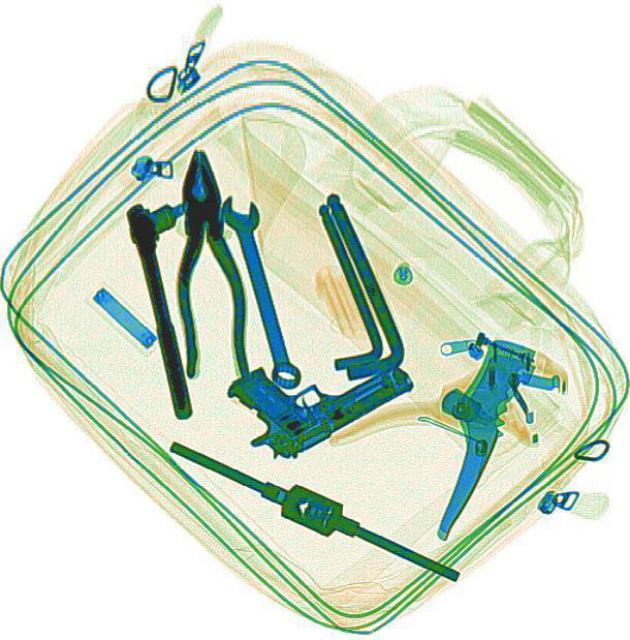Gun: (213, 306, 417, 472)
Pliers: (161, 145, 254, 381)
Wrench: (214, 188, 306, 390)
